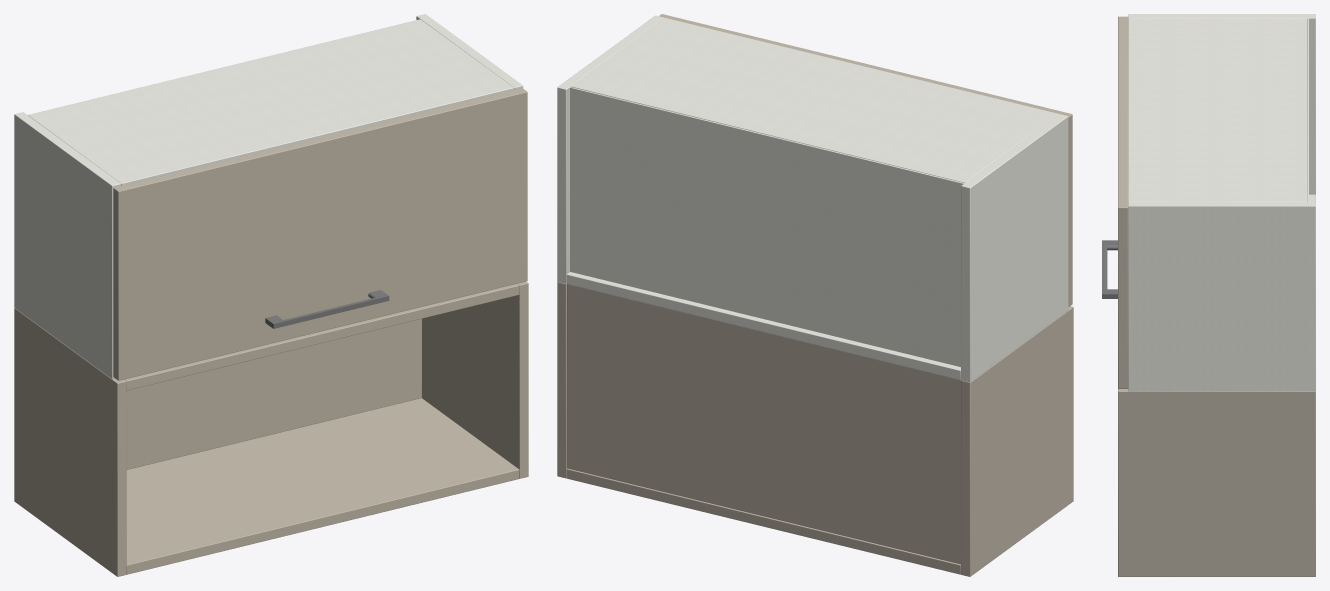
3 views of the same model, side by side, from view 1: azimuth 30°, elevation 25°; view 2: azimuth 150°, elevation 25°; view 3: azimuth 270°, elevation 25° (orthographic). The views are drawn at different scales.
Parts seen in each view (by area): view 1: v11, STRANICA LEVA (×2), VEZNA PREDNJA (×2), POD, STRANICA DESNA (×2), Union; view 2: v11, LEĐA, STRANICA LEVA (×2), VEZNA PREDNJA, POD (×2), STRANICA DESNA (×2); view 3: STRANICA DESNA (×2), VEZNA PREDNJA, v11, STRANICA LEVA, Union, LEĐA.
Boxes of the visible parts, box(x1,y1,x2,y2) form: v11: box(113, 88, 527, 469); STRANICA LEVA (×2): box(14, 112, 126, 576); VEZNA PREDNJA (×2): box(28, 19, 519, 390); POD: box(126, 398, 519, 574); STRANICA DESNA (×2): box(416, 14, 528, 478); Union: box(265, 290, 389, 328); v11: box(567, 14, 1072, 564); LEĐA: box(570, 87, 964, 366); STRANICA LEVA (×2): box(961, 114, 1073, 576); VEZNA PREDNJA: box(571, 18, 1058, 182); POD (×2): box(566, 272, 960, 574); STRANICA DESNA (×2): box(557, 15, 663, 478); STRANICA DESNA (×2): box(1118, 202, 1315, 576); VEZNA PREDNJA: box(1128, 18, 1307, 201); v11: box(1118, 16, 1128, 388); STRANICA LEVA: box(1128, 14, 1315, 194); Union: box(1102, 240, 1117, 298); LEĐA: box(1307, 18, 1308, 201).
Bounding box in the file's own units: 0.8 × 0.72 × 0.376.
3 materials, 2 textured.
